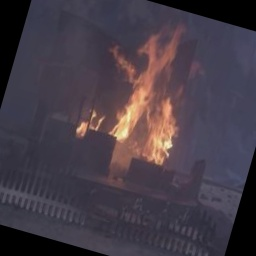fire: (62, 1, 223, 179)
